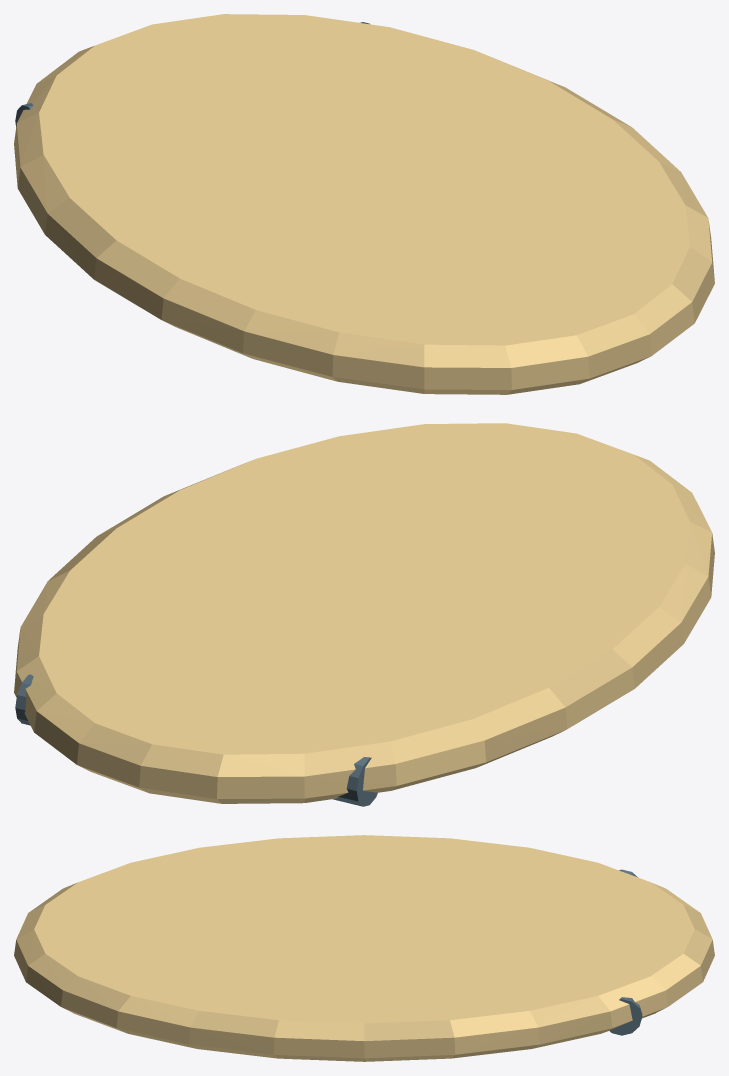
The model's file is EB_OvalLid.fbx.
3 views of the same model, one above another, from view 1: azimuth 30°, elevation 25°; view 2: azimuth 150°, elevation 25°; view 3: azimuth 270°, elevation 25° (orthographic). The views are drawn at different scales.
Visible parts, largest first — view 1: EB_OvalLid; view 2: EB_OvalLid; view 3: EB_OvalLid.
Boxes of the visible parts, bbox=[...] form: EB_OvalLid: bbox=[14, 14, 714, 394]; EB_OvalLid: bbox=[14, 423, 714, 806]; EB_OvalLid: bbox=[14, 835, 714, 1061].
Size of the model in its own units: 0.434 by 0.041 by 0.626.
